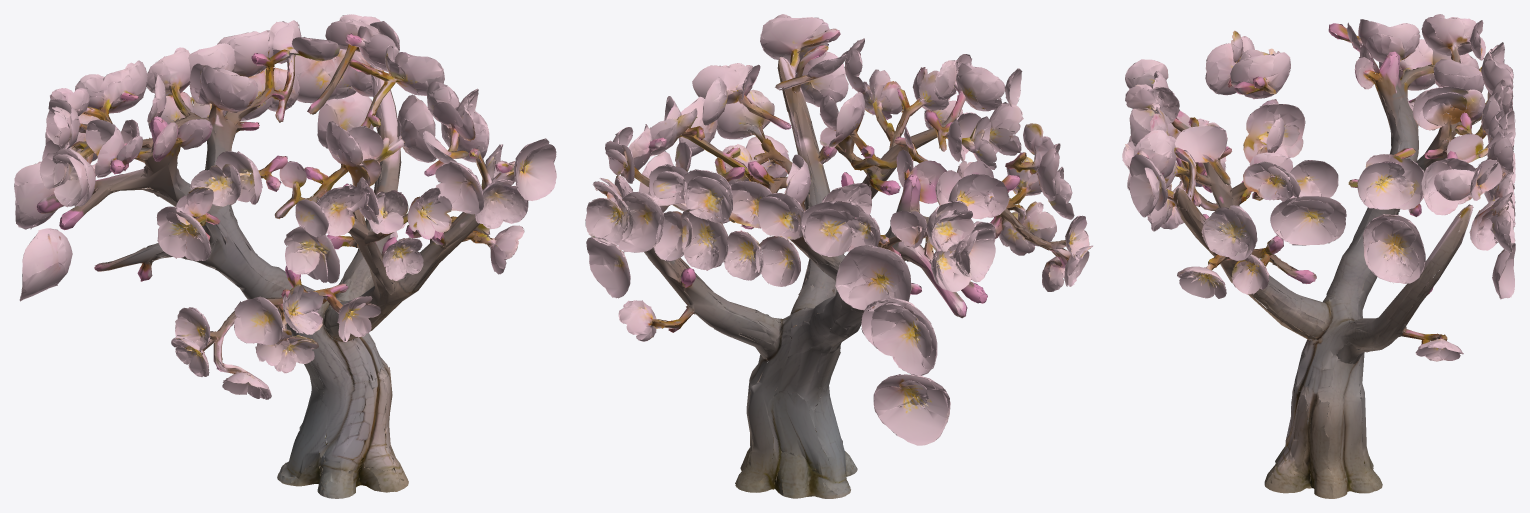
Rendered from sakura.glb.
3 views of the same model, side by side, from view 1: azimuth 30°, elevation 25°; view 2: azimuth 150°, elevation 25°; view 3: azimuth 270°, elevation 25° (orthographic). The views are drawn at different scales.
Parts seen in each view (by area): view 1: node_0; view 2: node_0; view 3: node_0.
Part boxes in pixels (x1=…): node_0: x1=14, y1=14, x2=556, y2=498; node_0: x1=585, y1=14, x2=1092, y2=498; node_0: x1=1122, y1=14, x2=1515, y2=498.
Bounding box in the file's own units: 0.7435 × 0.7425 × 0.7354.
1 material, 1 textured.
